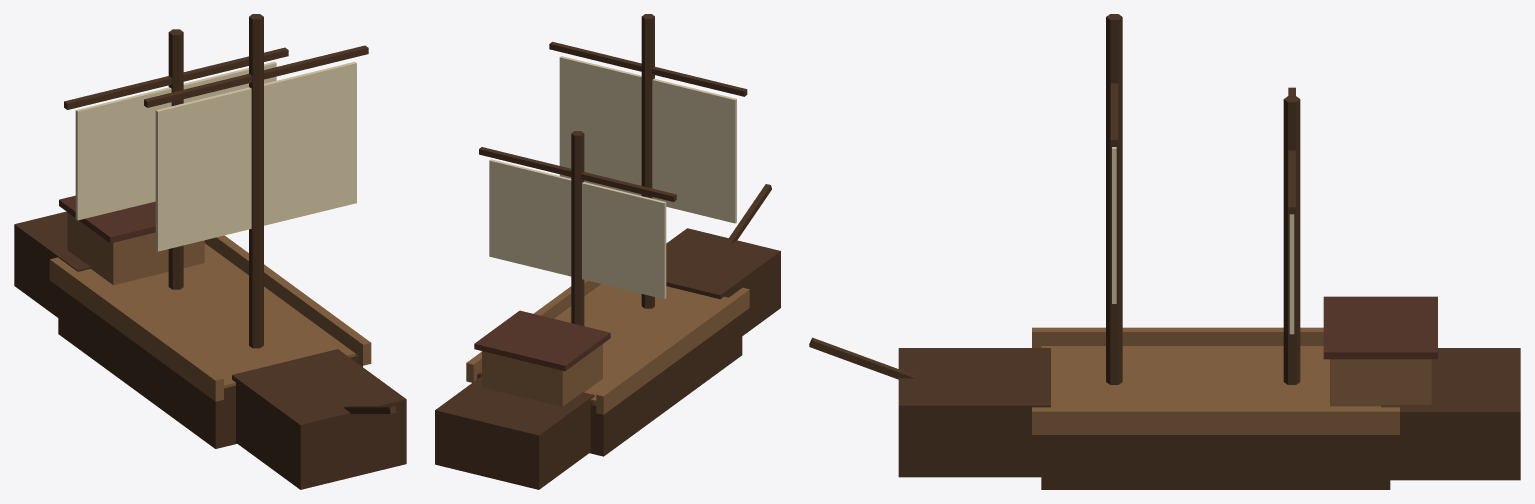
Rendered from prop_ship.glb.
3 renders of one model, left to right at view 1: azimuth 30°, elevation 25°; view 2: azimuth 150°, elevation 25°; view 3: azimuth 270°, elevation 25°, orthographic. The views are drawn at different scales.
Parts seen in each view (by area): view 1: prop_ship; view 2: prop_ship; view 3: prop_ship.
Boxes of the visible parts, x1=… form: prop_ship: x1=14, y1=14, x2=406, y2=489; prop_ship: x1=435, y1=14, x2=780, y2=489; prop_ship: x1=809, y1=14, x2=1520, y2=489.
Bounding box in the file's own units: 3.75 × 6.33 × 9.41.
